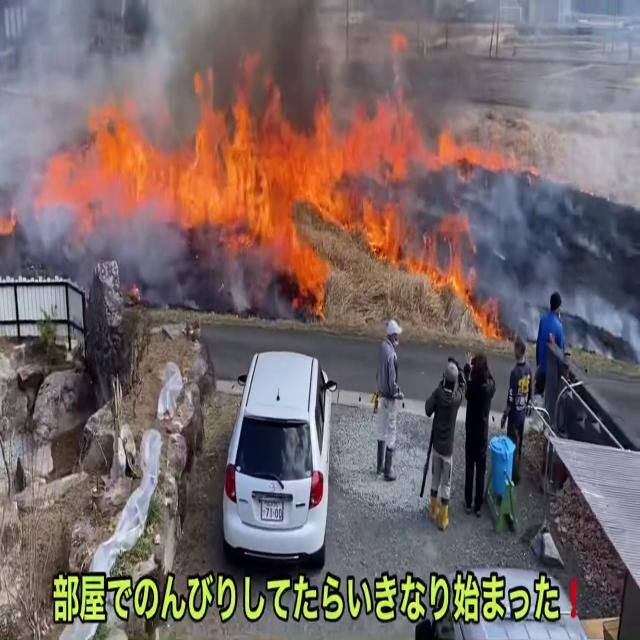Fire: (35, 75, 510, 297), (396, 234, 502, 338)
Smoke: (64, 0, 553, 128)
